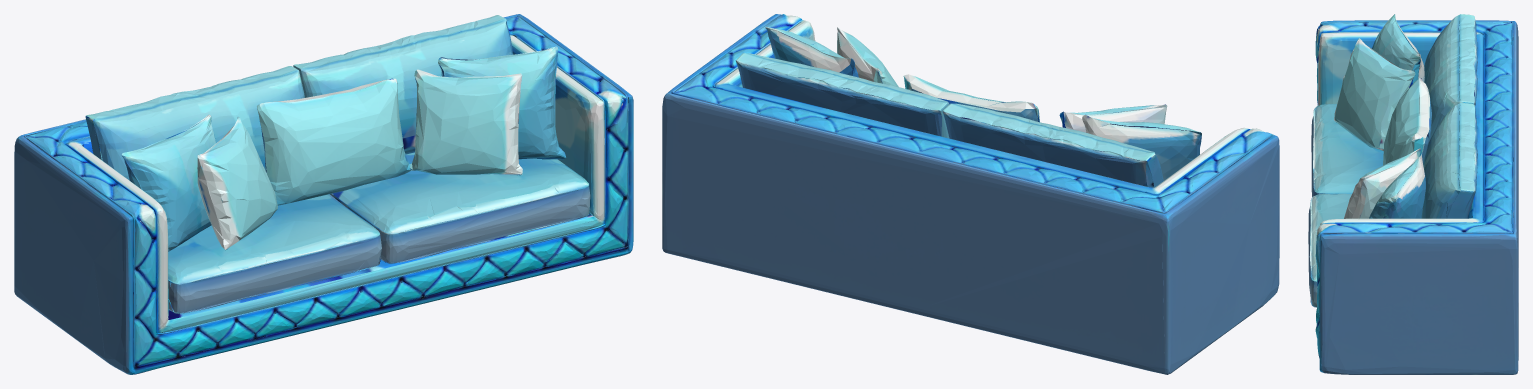
File: edited_mesh.glb
3 views of the same model, side by side, from view 1: azimuth 30°, elevation 25°; view 2: azimuth 150°, elevation 25°; view 3: azimuth 270°, elevation 25° (orthographic). The views are drawn at different scales.
Visible parts, largest first — view 1: solid_001_wire; view 2: solid_001_wire; view 3: solid_001_wire.
Boxes of the visible parts, bbox=[...] form: solid_001_wire: bbox=[14, 14, 633, 374]; solid_001_wire: bbox=[662, 14, 1279, 374]; solid_001_wire: bbox=[1308, 14, 1518, 374].
Size of the model in its own units: 2 by 0.7095 by 0.8163.
1 material, 1 textured.
